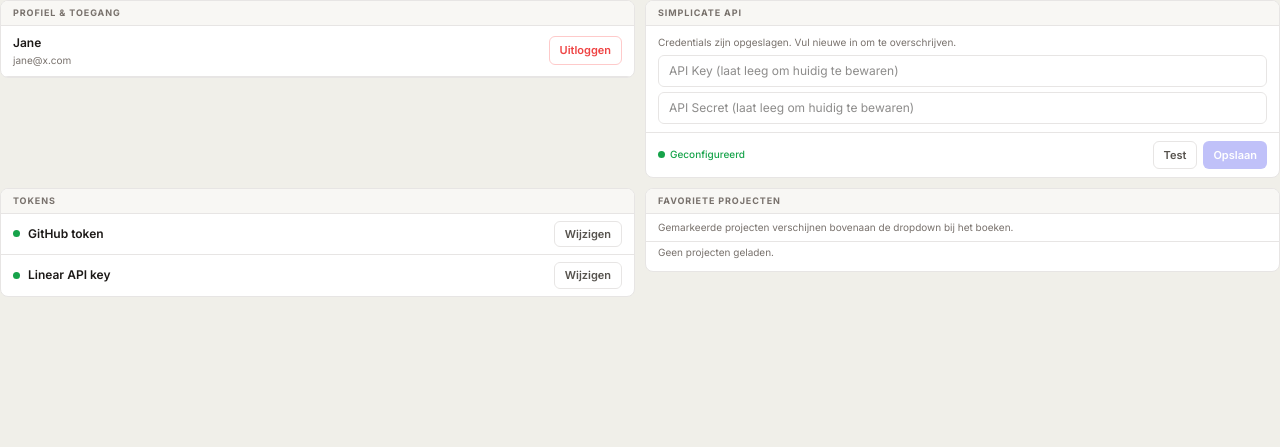
Test: AccountSettings › loads existing credentials and tokens on mount
Expected: the text "Geconfigureerd" is shown, left=670, top=147, right=745, bottom=162
# Expanding GitHub reveals the pre-filled username
Click the button "Wijzigen" in the row of "GitHub token".
click(588, 234)  # box left=554, top=220, right=622, bottom=247
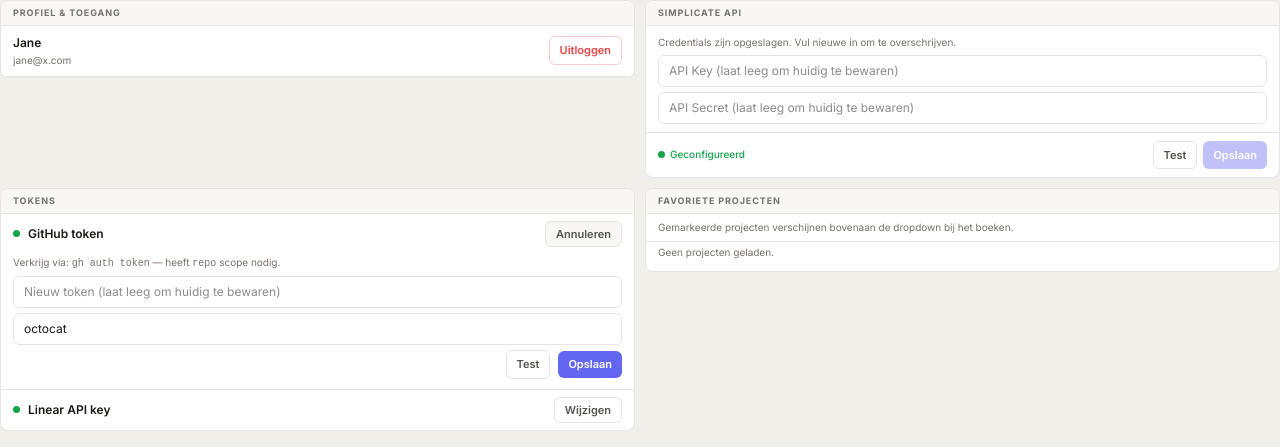
Now the field showing "octocat" is shown, box left=13, top=313, right=622, bottom=345
